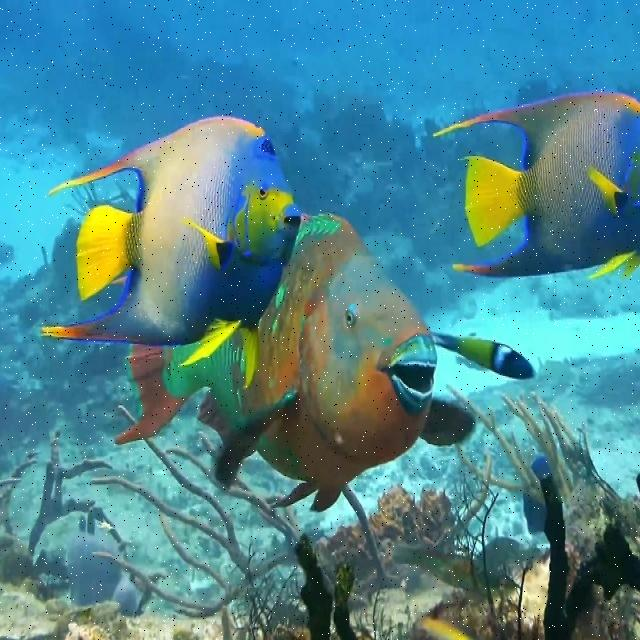fish: (117, 213, 475, 511), (40, 114, 299, 385), (432, 91, 639, 281), (433, 332, 536, 380)
